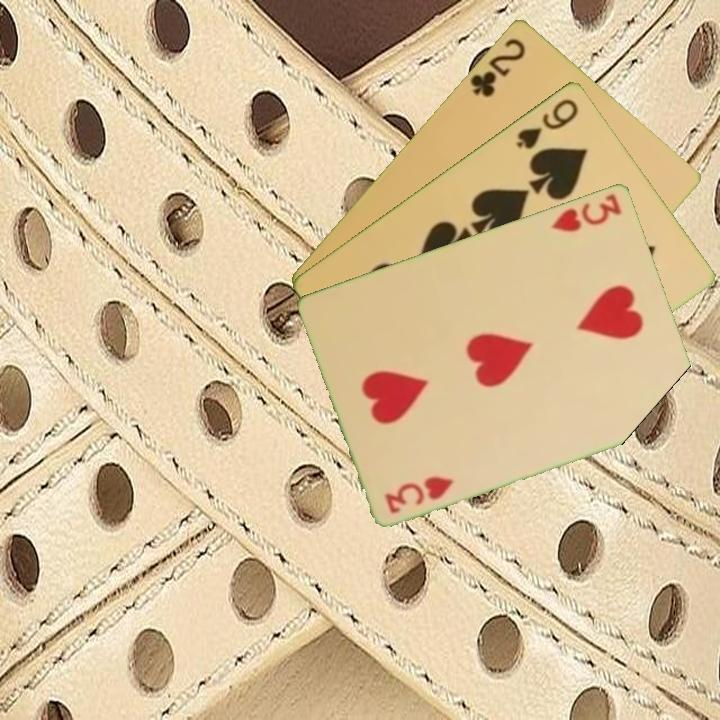2c: (466, 34, 529, 100)
3h: (548, 189, 625, 235), (381, 472, 457, 516)
9s: (512, 94, 582, 152)
